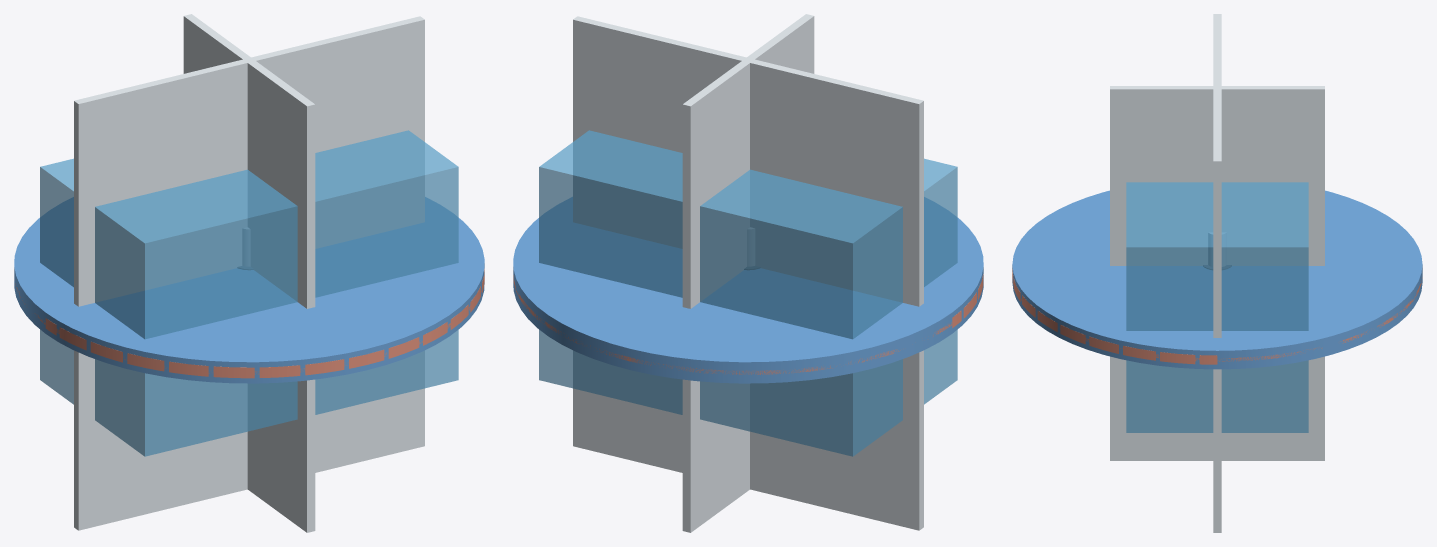
File: parts.glb
The picture shows the model from 3 angles, left to right: view 1: azimuth 30°, elevation 25°; view 2: azimuth 150°, elevation 25°; view 3: azimuth 270°, elevation 25°; orthographic projection. The views are drawn at different scales.
Visible parts, largest first — view 1: tank_f, water, backplate, tank_l, stator_half; view 2: tank_f, water, backplate, tank_l, membrane; view 3: tank_l, backplate, water, tank_f, stator_half, membrane.
Boxes of the visible parts, x1,y1,x2,y2 form: tank_f: [74, 16, 424, 530]; water: [40, 130, 458, 456]; backplate: [14, 197, 484, 383]; tank_l: [183, 14, 315, 532]; stator_half: [45, 269, 484, 378]; tank_f: [573, 16, 923, 530]; water: [539, 130, 957, 456]; backplate: [513, 197, 983, 383]; tank_l: [682, 14, 814, 532]; membrane: [513, 275, 977, 374]; tank_l: [1110, 86, 1324, 460]; backplate: [1012, 190, 1422, 369]; water: [1126, 182, 1308, 432]; tank_f: [1213, 14, 1221, 532]; stator_half: [1012, 269, 1217, 364]; membrane: [1013, 277, 1422, 361].
Bounding box in the file's own units: 2 × 2 × 2.
